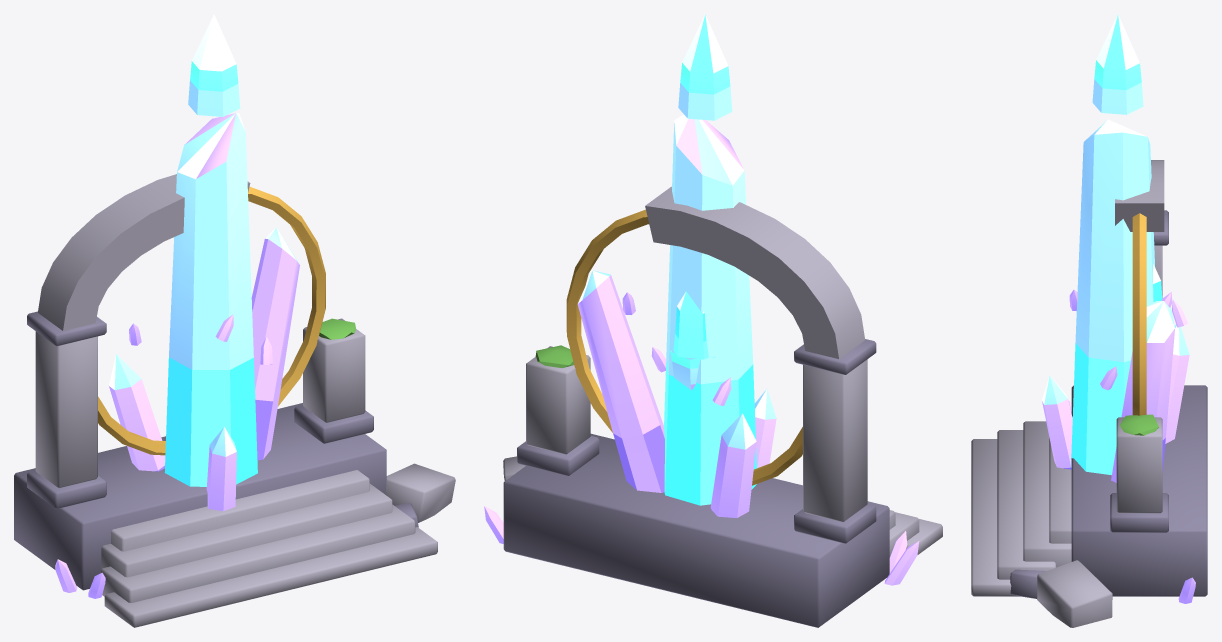
File: spire_shrine_B.glb
3 views of the same model, side by side, from view 1: azimuth 30°, elevation 25°; view 2: azimuth 150°, elevation 25°; view 3: azimuth 270°, elevation 25° (orthographic). The views are drawn at different scales.
Parts seen in each view (by area): view 1: ruin_arch_shrine, crystal_spire; view 2: ruin_arch_shrine, crystal_spire; view 3: ruin_arch_shrine, crystal_spire.
Boxes of the visible parts, box(x1,y1,x2,y2) form: ruin_arch_shrine: box(14, 174, 455, 627); crystal_spire: box(109, 14, 299, 511); ruin_arch_shrine: box(484, 186, 942, 627); crystal_spire: box(577, 14, 776, 517); ruin_arch_shrine: box(971, 160, 1207, 627); crystal_spire: box(1042, 14, 1189, 482).
Size of the model in its own units: 7.32 by 9.15 by 3.83.
